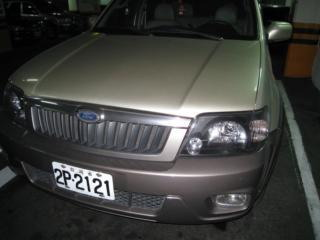plate: (50, 160, 118, 202)
